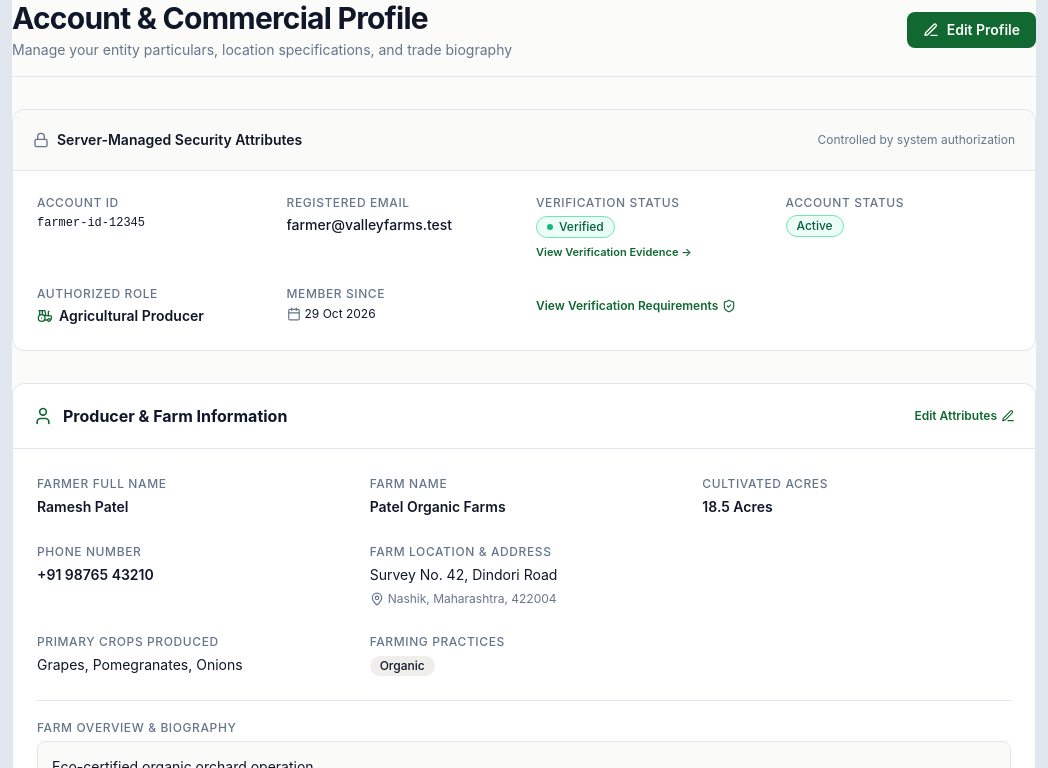
Test case: ProfilePage › handles backend validation error (HTTP 422) and maps to form input
Click the button "Edit Profile". click: (971, 30)
box: [907,12,1036,48]
(page scrolled)
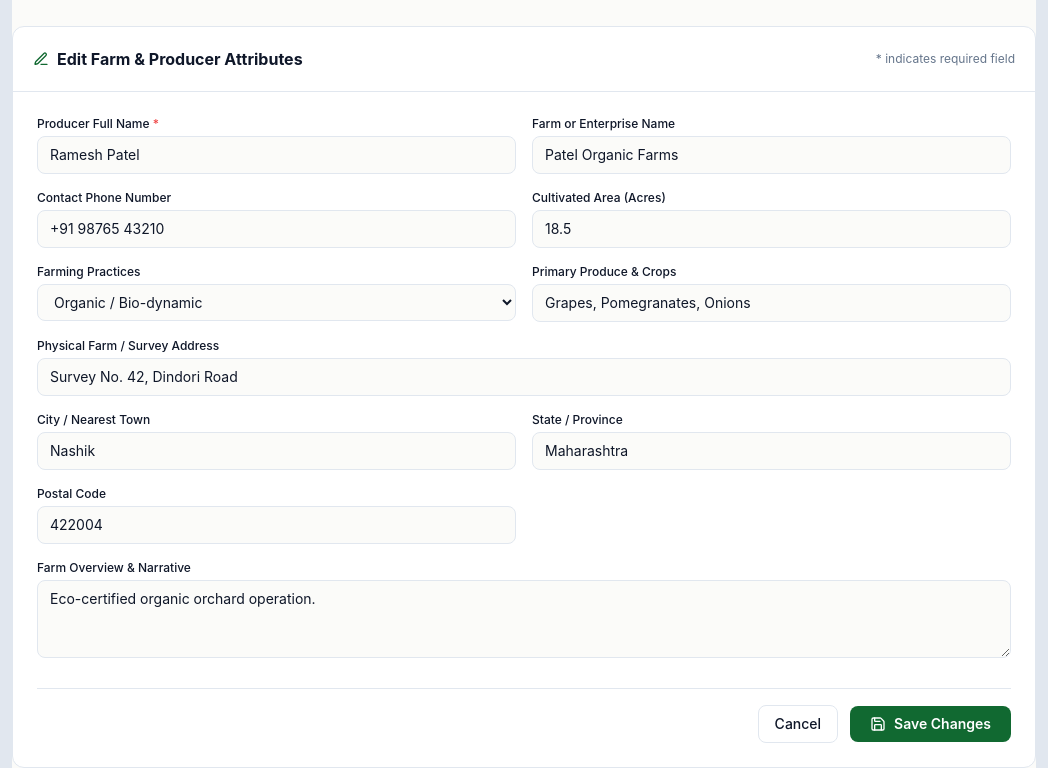
Click the button "Save Changes". click: (931, 724)
box: [850,706,1011,742]
(page scrolled)
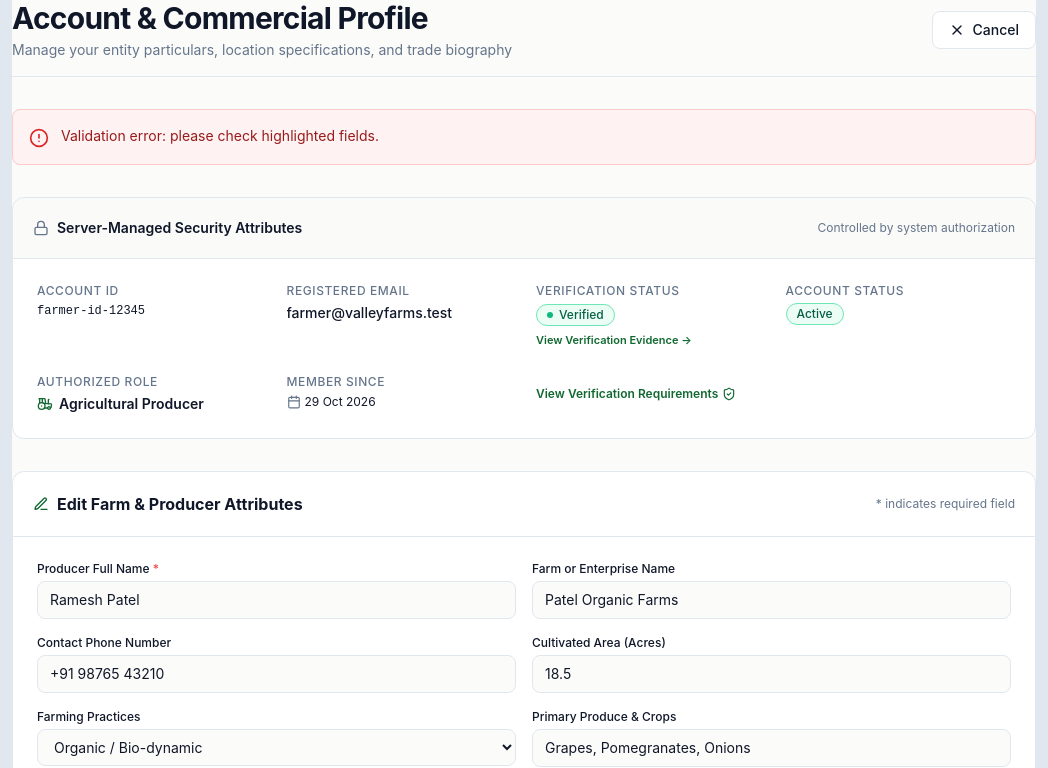
Now the text "Validation error: please check highlighted fields." is shown, box [61,126,379,146]
